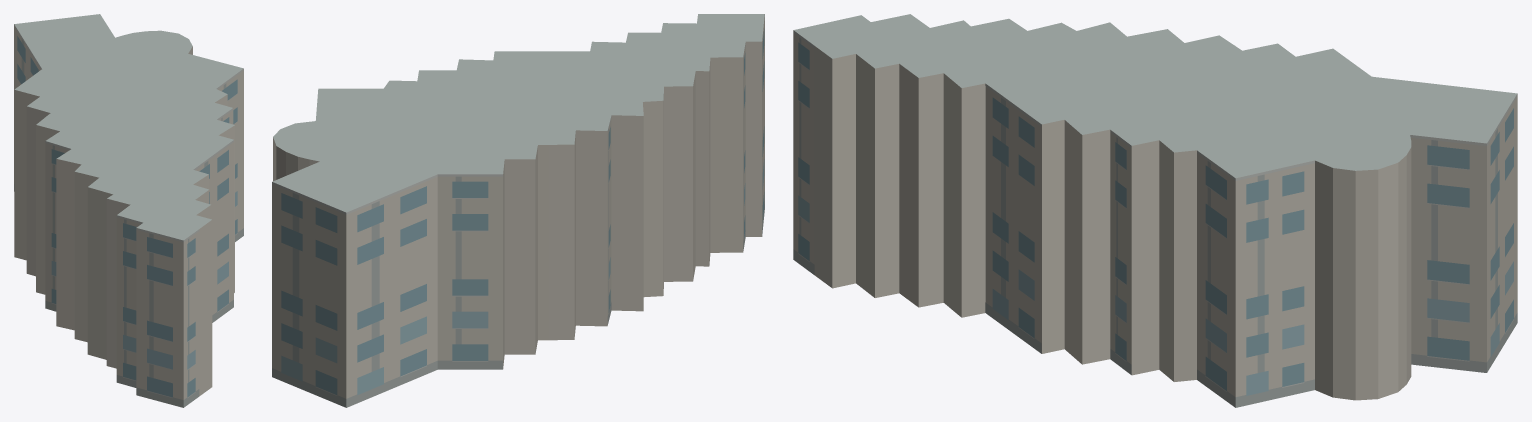
File: survey-upis-32969249.glb
The picture shows the model from 3 angles, left to right: view 1: azimuth 30°, elevation 25°; view 2: azimuth 150°, elevation 25°; view 3: azimuth 270°, elevation 25°; orthographic projection. The views are drawn at different scales.
Parts seen in each view (by area): view 1: survey-upis-32969249.tmp; view 2: survey-upis-32969249.tmp; view 3: survey-upis-32969249.tmp.
Boxes of the visible parts, x1,y1,x2,y2 form: survey-upis-32969249.tmp: (14,14,243,407); survey-upis-32969249.tmp: (272,14,764,407); survey-upis-32969249.tmp: (793,14,1517,407).
Bounding box in the file's own units: 31.94 × 20.8 × 59.46.
